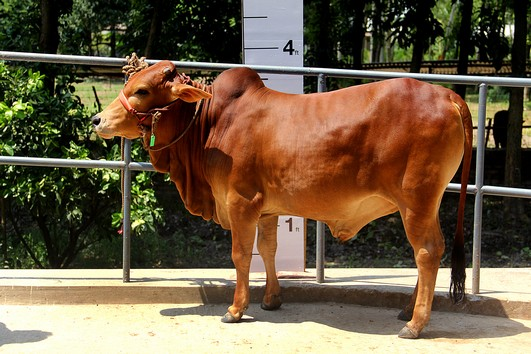cow: (82, 53, 473, 329)
